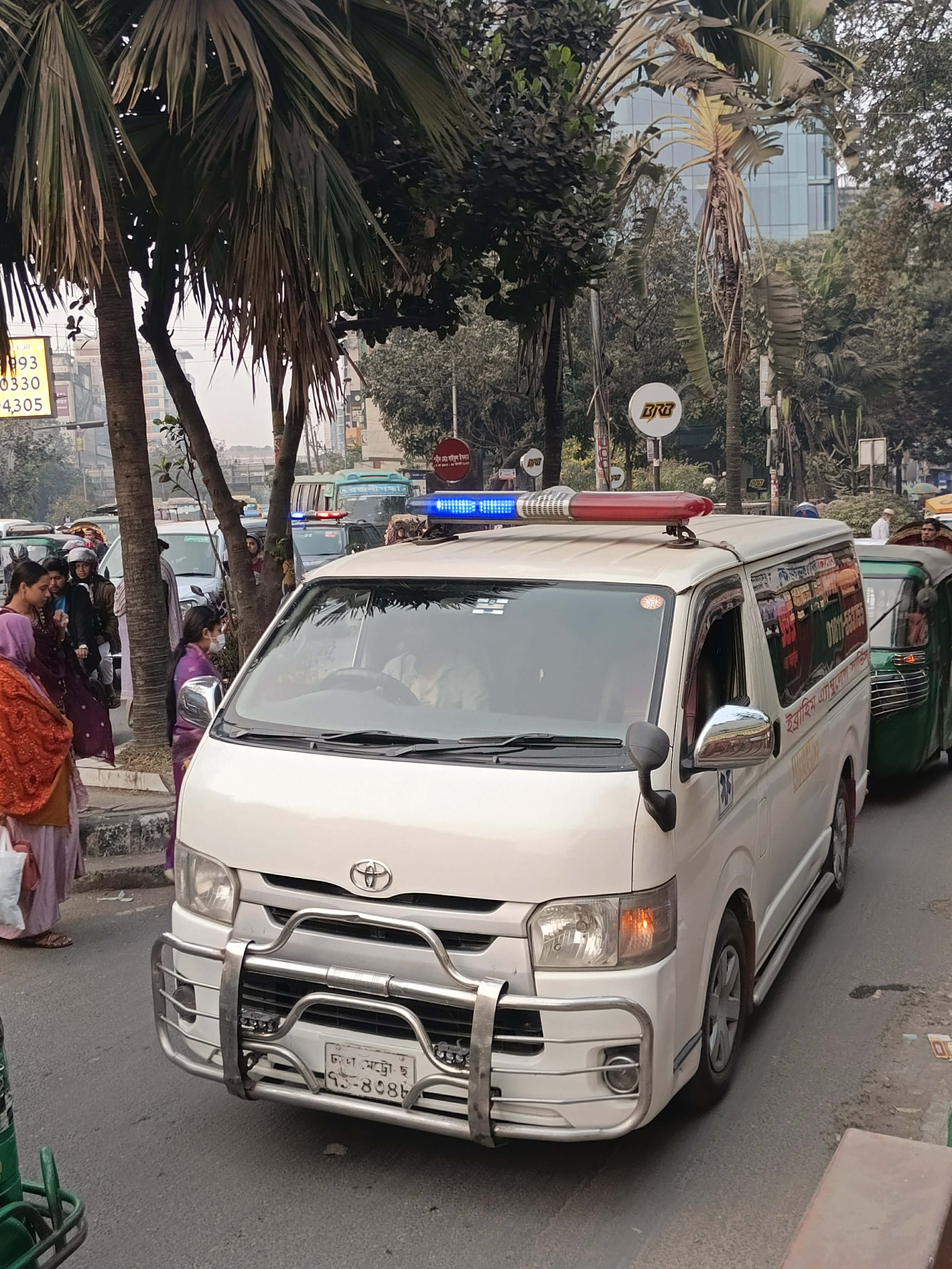Ambulance: (137, 453, 880, 1187)
Bus: (290, 466, 427, 553)
cng: (850, 531, 952, 787)
private car: (94, 500, 272, 650)
